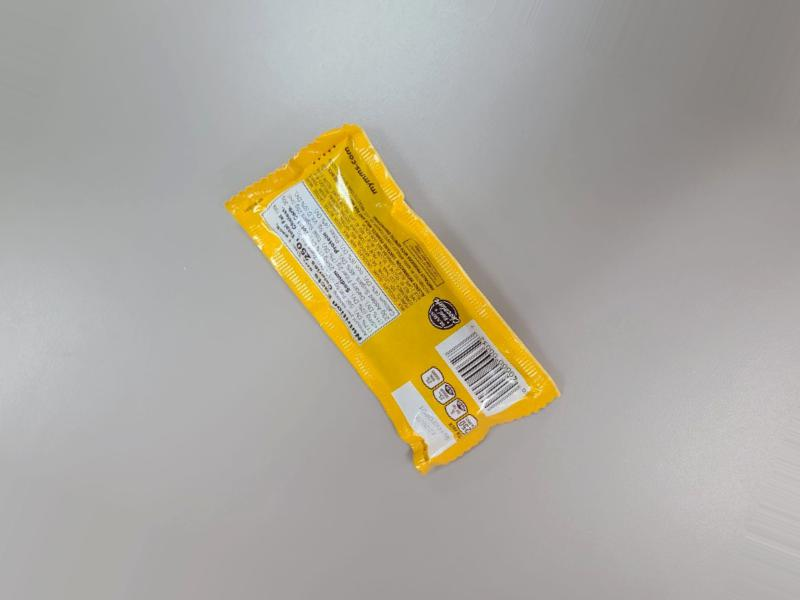m&m: (213, 126, 552, 489)
